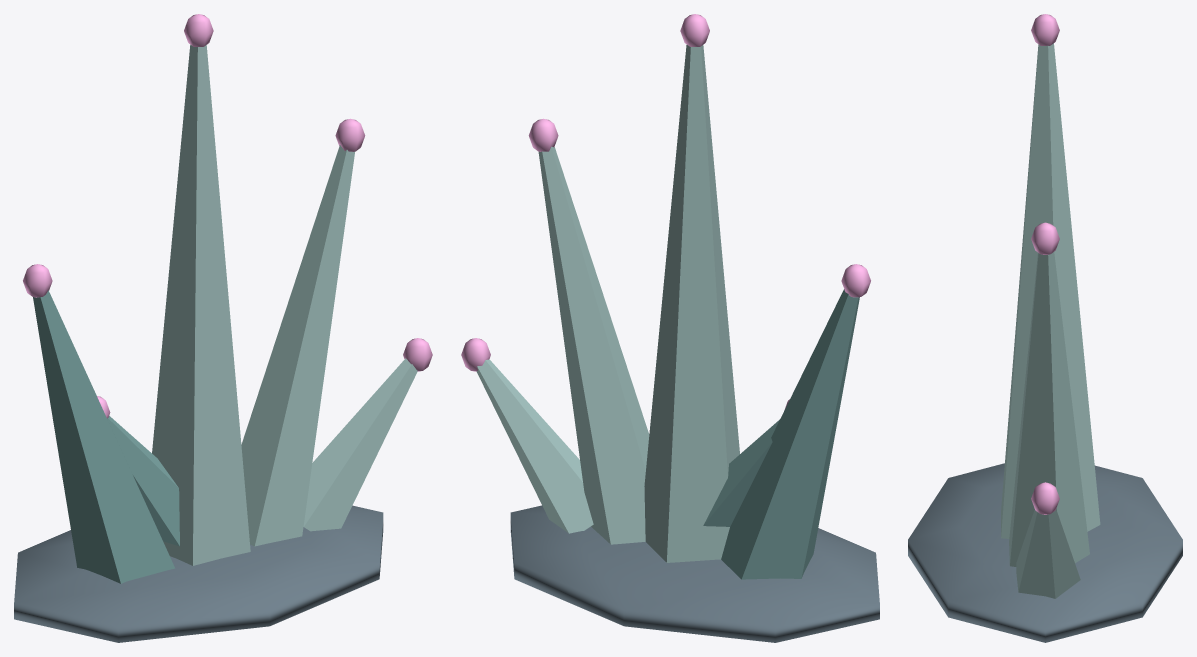
Rendered from crystal.glb.
3 views of the same model, side by side, from view 1: azimuth 30°, elevation 25°; view 2: azimuth 150°, elevation 25°; view 3: azimuth 270°, elevation 25° (orthographic). The views are drawn at different scales.
Visible parts, largest first — view 1: crystal_Palette, crystal_Glow; view 2: crystal_Palette, crystal_Glow; view 3: crystal_Palette, crystal_Glow.
Part boxes in pixels (box(x1,y1,x2,y2)): crystal_Palette: box(14, 44, 417, 642); crystal_Glow: box(23, 14, 432, 418); crystal_Palette: box(476, 45, 879, 642); crystal_Glow: box(461, 14, 870, 408); crystal_Palette: box(908, 43, 1182, 642); crystal_Glow: box(1031, 14, 1059, 514).
Size of the model in its own units: 1.28 by 1.71 by 0.7608.
